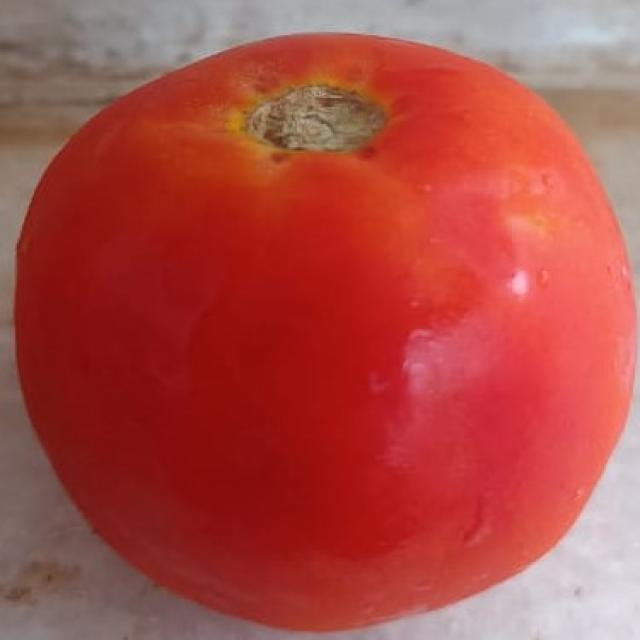ripe tomato: (31, 16, 634, 624)
